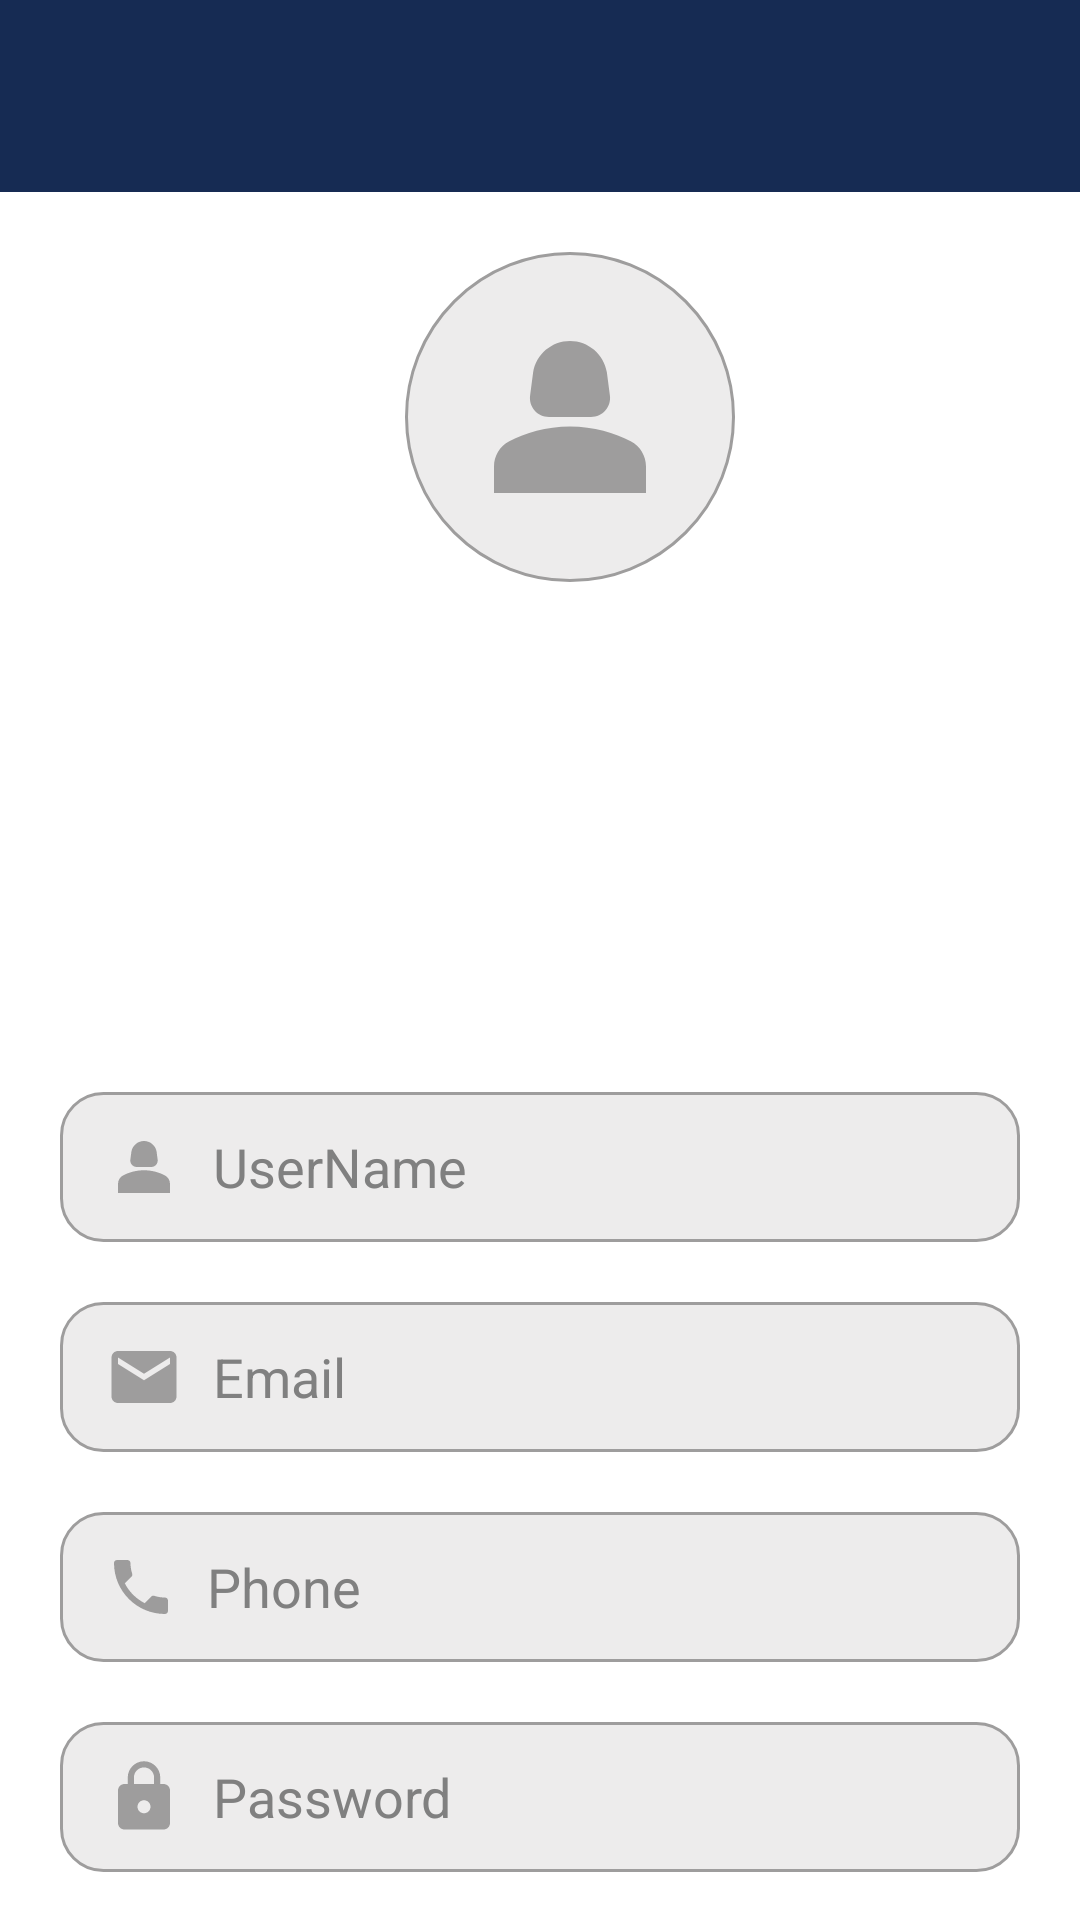

Screen size 1080px×1920px. Icon name, then its box in pixels as Rect(x1, y1, x2, y2):
person: Rect(405, 252, 735, 582)
